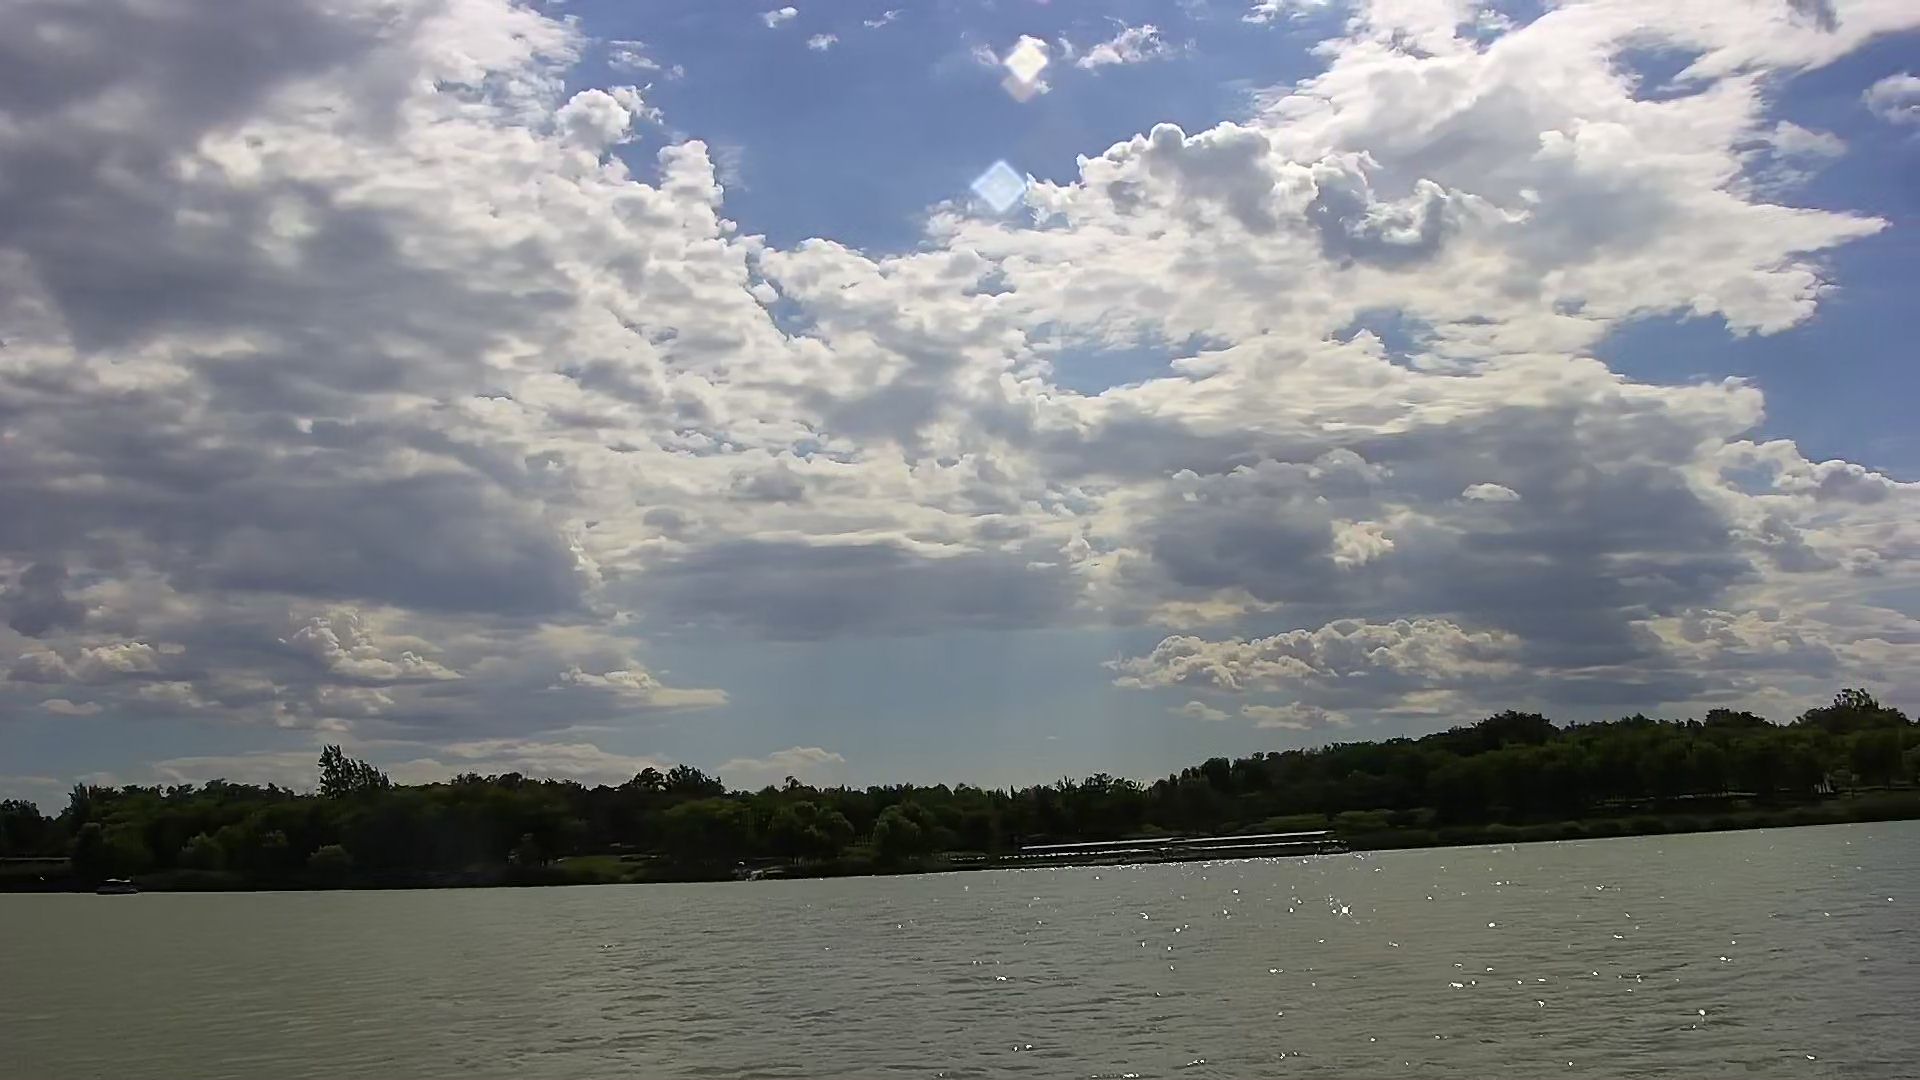harbor: (1001, 825, 1353, 866)
